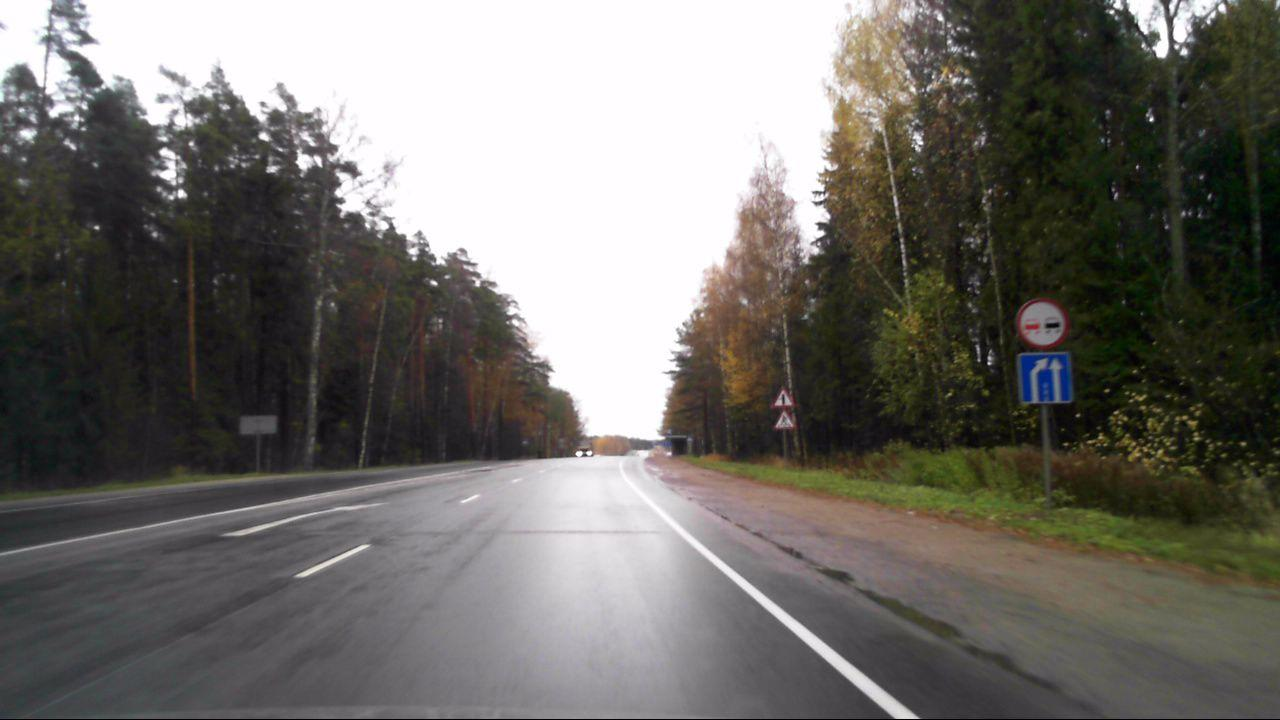1_22: (774, 410, 795, 429)
2_3_3: (770, 386, 796, 409)
3_20: (1014, 298, 1068, 348)
5_15_6: (1014, 352, 1074, 406)
